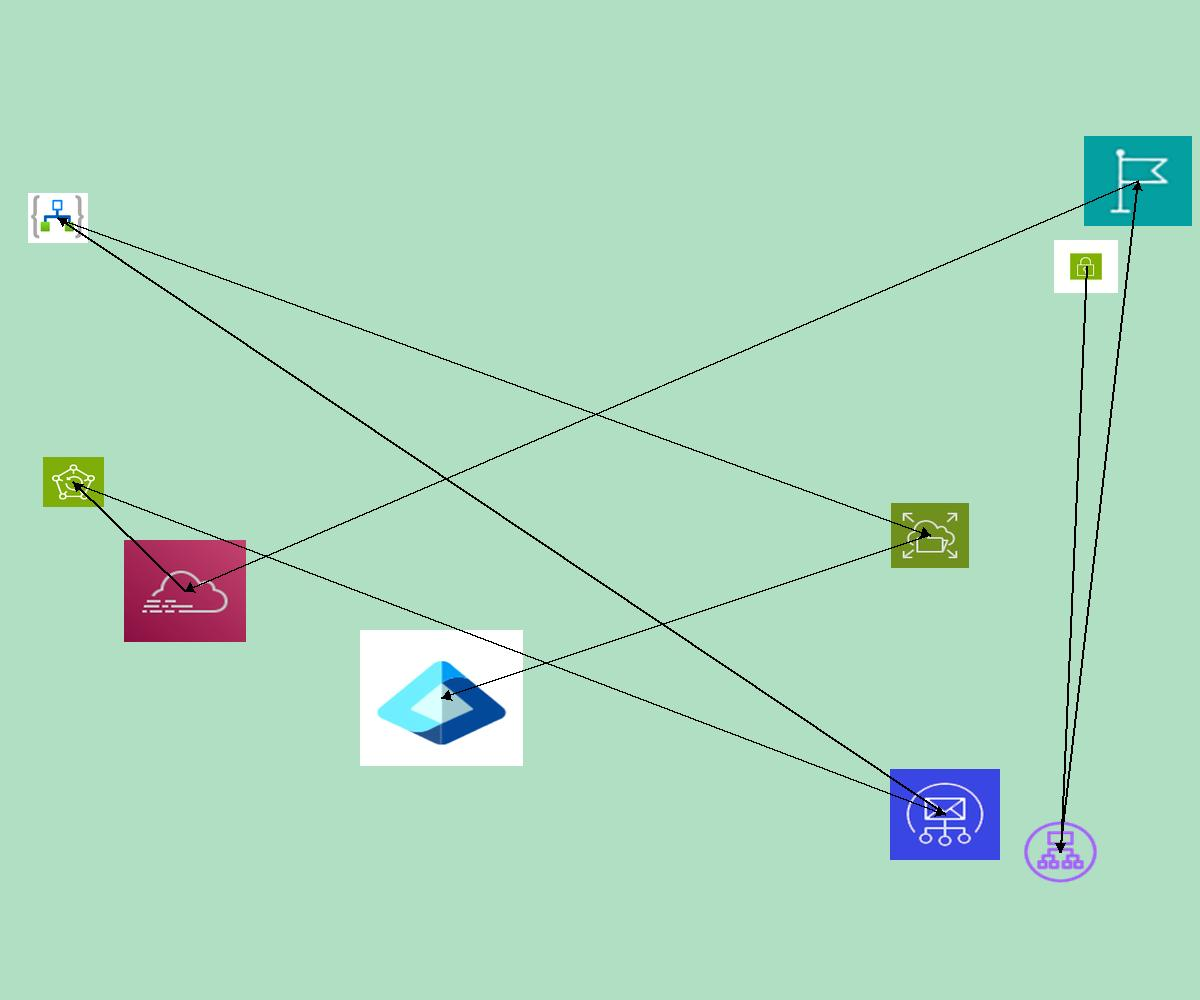AWS-Backup: (43, 457, 104, 507)
AWS-CloudTrail: (124, 540, 246, 642)
AWS-EFS: (891, 503, 969, 568)
AWS-Public-subnet: (1054, 240, 1118, 293)
AWS-Region: (1084, 136, 1192, 226)
AWS-Res_Elastic-Load-Balancing_Application-Load-Balancer: (1021, 819, 1100, 885)
AWS-Simple-Email-Service: (890, 769, 1000, 860)
Azure_integration-204-Logic-Apps: (28, 193, 88, 243)
Azure_microsoft_entra: (360, 630, 523, 766)
